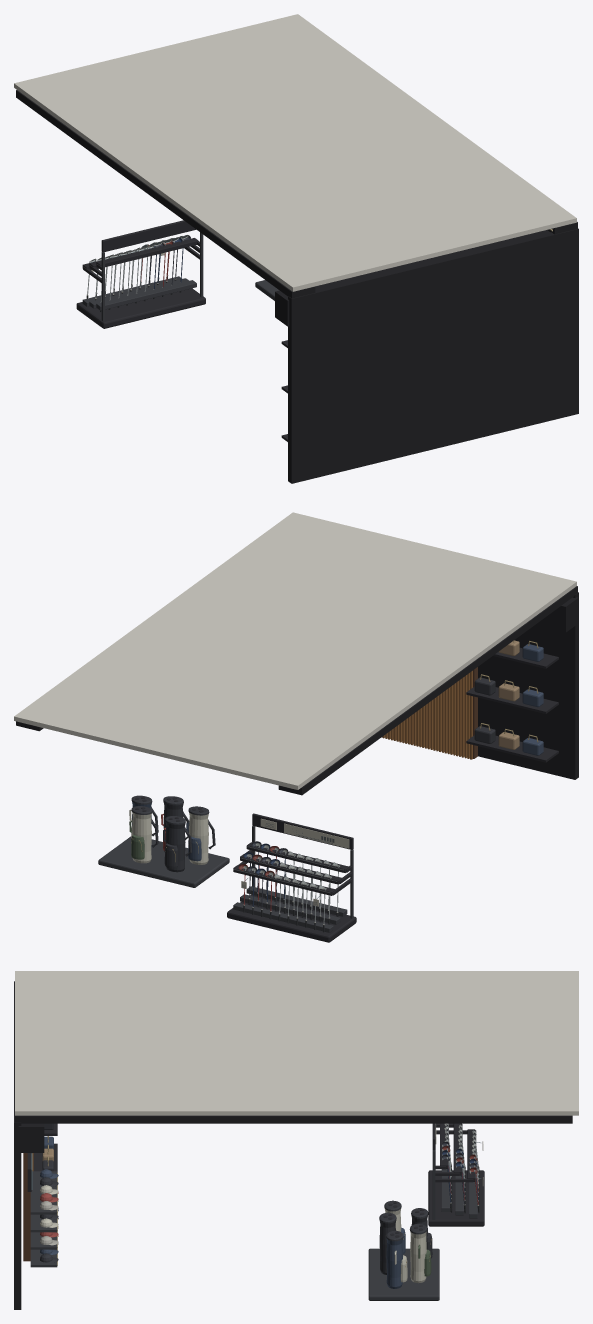
Rendered from showroom.glb.
3 views of the same model, one above another, from view 1: azimuth 30°, elevation 25°; view 2: azimuth 150°, elevation 25°; view 3: azimuth 270°, elevation 25° (orthographic).
Visible parts, largest first — view 1: AKGolfSalesFloor; view 2: AKGolfSalesFloor; view 3: AKGolfSalesFloor.
Boxes of the visible parts, box(x1,y1,x2,y2) form: AKGolfSalesFloor: box(14, 14, 578, 483); AKGolfSalesFloor: box(14, 512, 578, 942); AKGolfSalesFloor: box(14, 971, 578, 1309).
Size of the model in its own units: 5.45 by 3.5 by 9.06.
